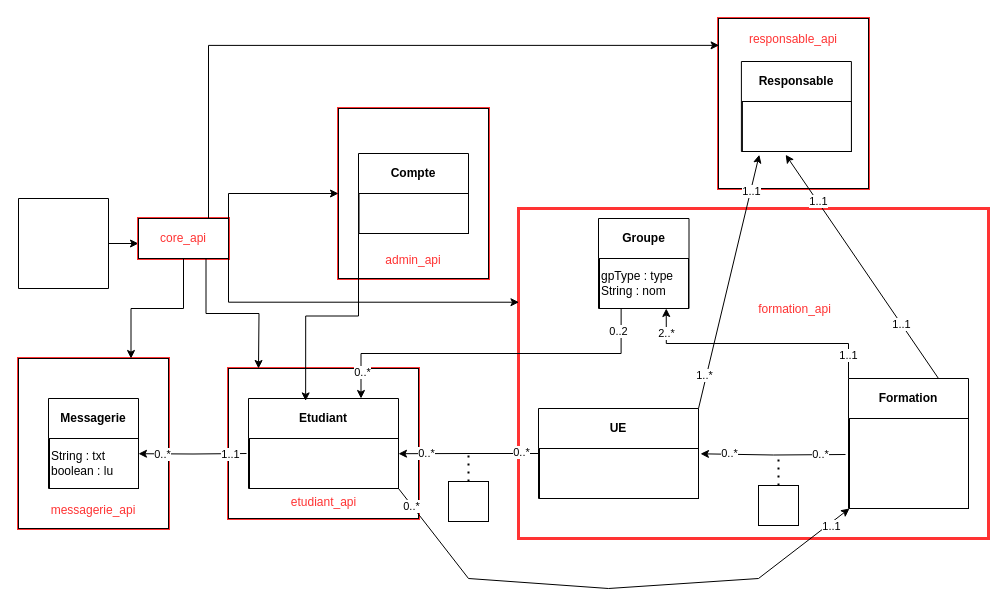
This 1007x614 diagram has some shape labels left out. Here are the shapes that lost their labels. From the top down, the centre of each, then its label:
At pixel 796 126: "String : nom String : email".
At pixel 413 213: "String : id String : password".
At pixel 63 243: "Front".
At pixel 323 463: "String : numeroEtu boolean : validation".
At pixel 618 473: "boolean : estObligatoire int : capacite String : nom".
At pixel 908 463: "int : TailleTP int : TailleTD String : nom int : nbUeOption".
